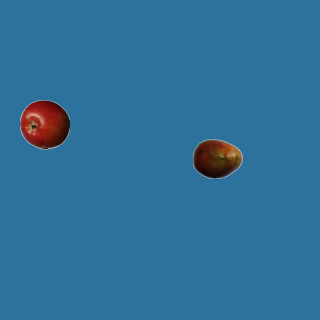Apple Braeburn: (19, 99, 69, 149)
Mango Red: (192, 133, 242, 183)
